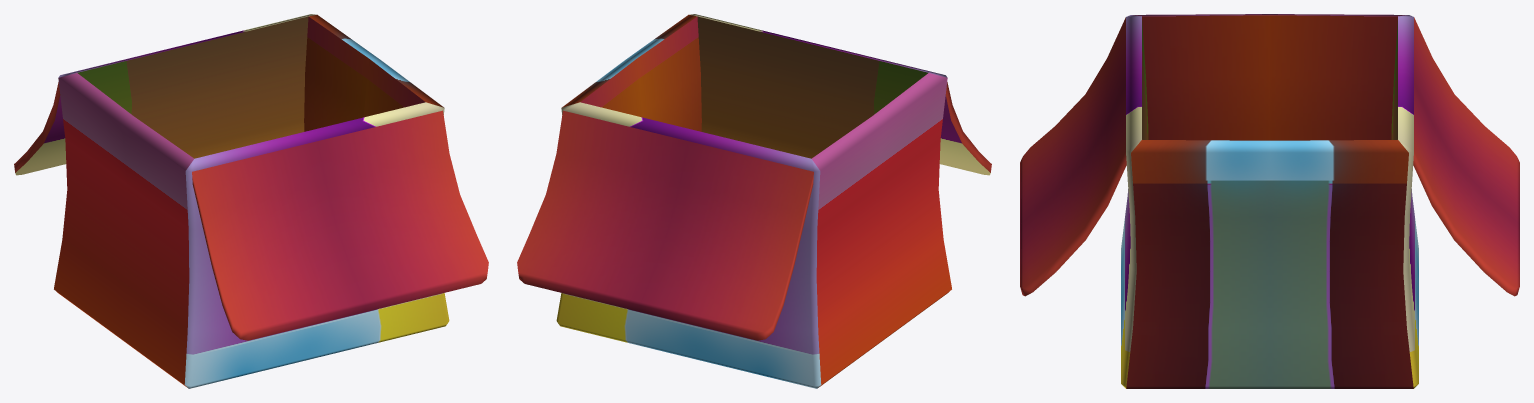
3 renders of one model, left to right at view 1: azimuth 30°, elevation 25°; view 2: azimuth 150°, elevation 25°; view 3: azimuth 270°, elevation 25°, orthographic. The views are drawn at different scales.
Visible parts, largest first — view 1: SM_Box; view 2: SM_Box; view 3: SM_Box.
Part boxes in pixels (x1,y1,x2,y2): SM_Box: [14, 14, 488, 388]; SM_Box: [517, 14, 991, 388]; SM_Box: [1020, 14, 1519, 388].
Size of the model in its own units: 65.35 by 52.44 by 97.91.
